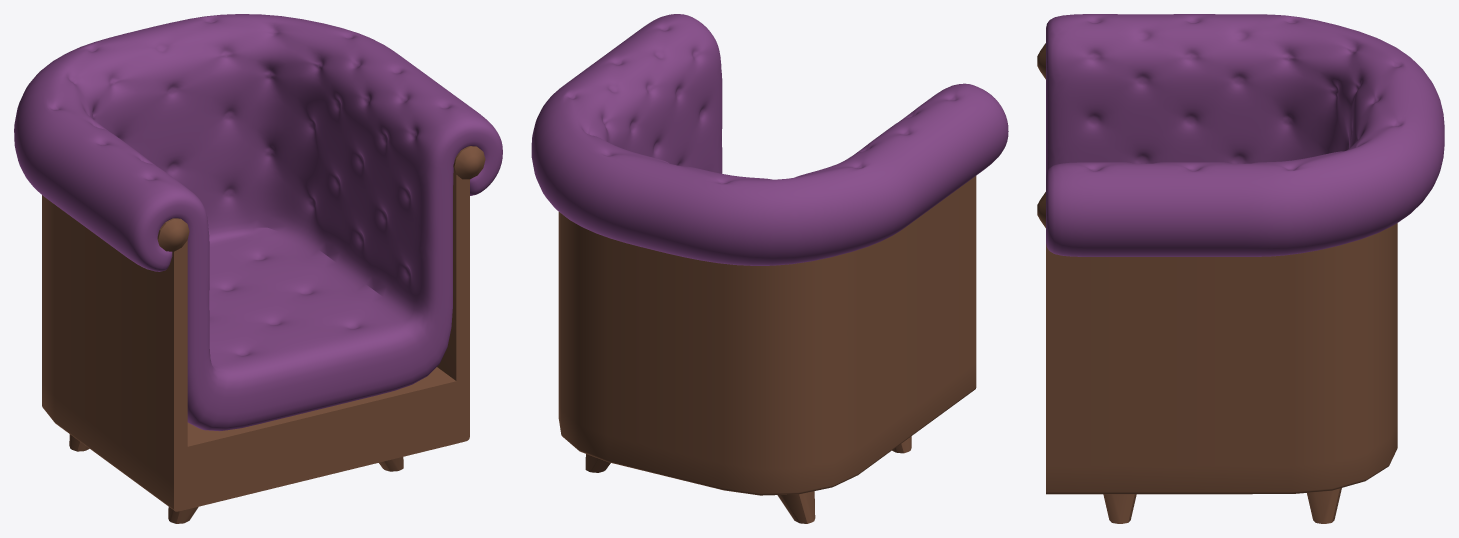
Rendered from Arm Chair.fbx.
3 views of the same model, side by side, from view 1: azimuth 30°, elevation 25°; view 2: azimuth 150°, elevation 25°; view 3: azimuth 270°, elevation 25° (orthographic). The views are drawn at different scales.
Visible parts, largest first — view 1: Cube; view 2: Cube; view 3: Cube.
Boxes of the visible parts, left/top/right/bottom form: Cube: left=14, top=14, right=502, bottom=523; Cube: left=531, top=14, right=1008, bottom=523; Cube: left=1037, top=14, right=1444, bottom=523.
Size of the model in its own units: 2.53 by 2.34 by 2.32.
